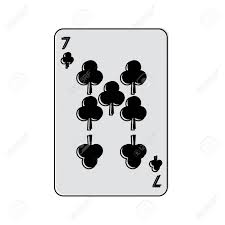seven of clubs: (54, 30, 168, 194)
